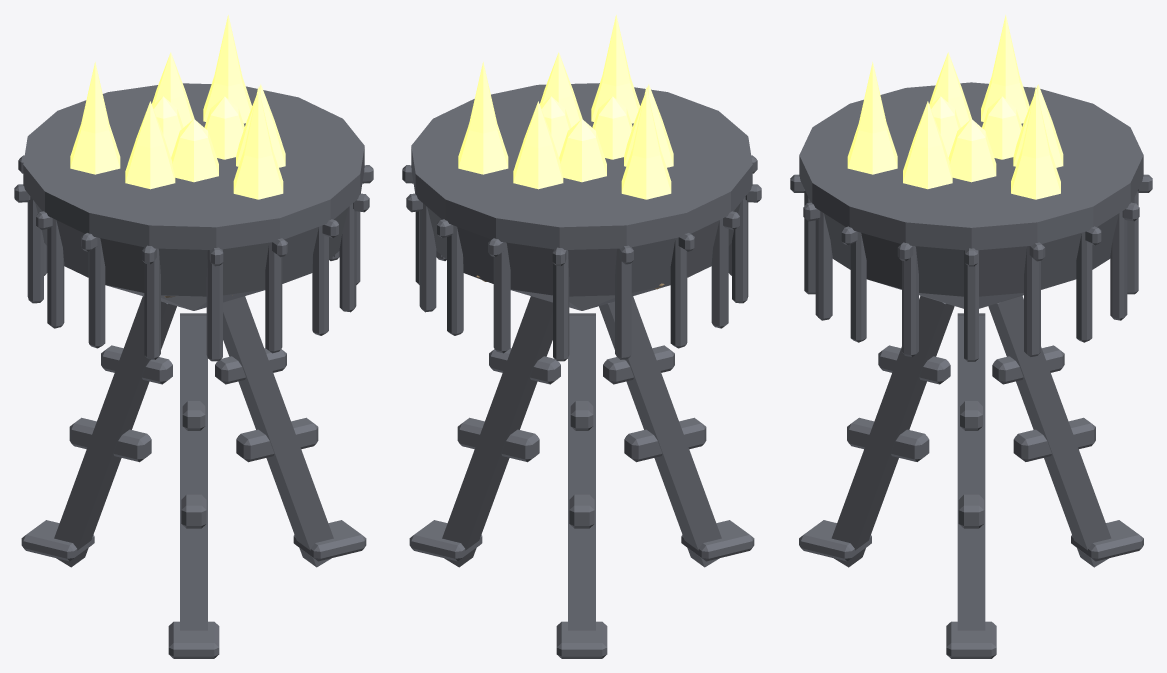
File: fantasy-mmo-city-and-townsfolk-street-brazier-4a70a043__32766.glb
3 renders of one model, left to right at view 1: azimuth 30°, elevation 25°; view 2: azimuth 150°, elevation 25°; view 3: azimuth 270°, elevation 25°, orthographic.
Visible parts, largest first — view 1: street-brazier; view 2: street-brazier; view 3: street-brazier.
Part boxes in pixels (<box>): street-brazier: <box>14,15,373,658</box>; street-brazier: <box>402,15,761,658</box>; street-brazier: <box>790,14,1152,658</box>.
Bounding box in the file's own units: 1.45 × 2.34 × 1.43.
